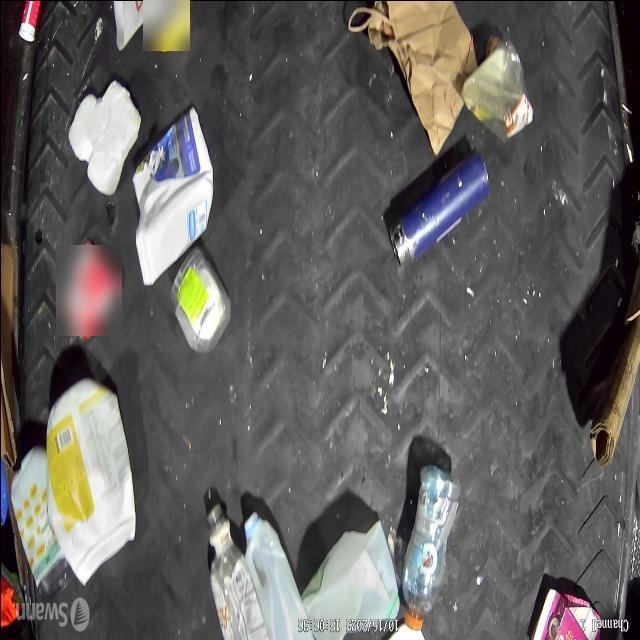milk_jug: (243, 511, 315, 639)
